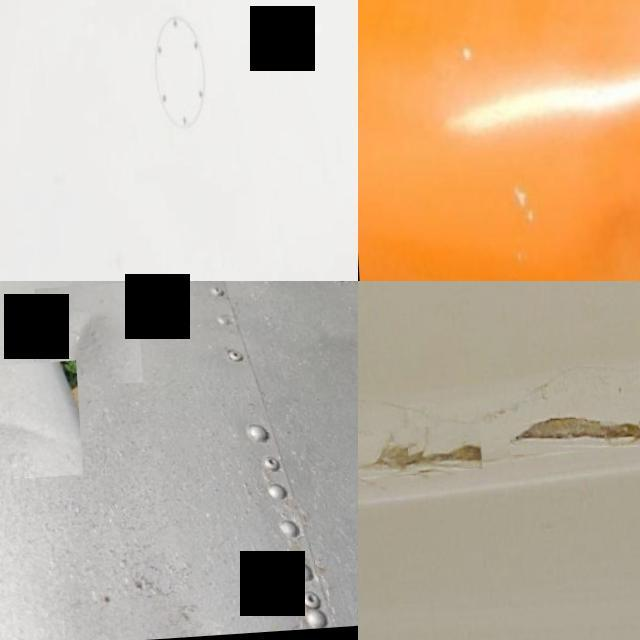Crack: (358, 432, 478, 476), (506, 418, 640, 449)
Dent: (31, 288, 138, 392), (0, 364, 76, 487)
